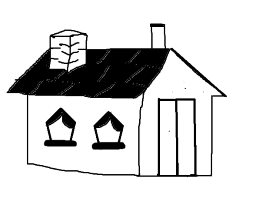chimney: (46, 22, 92, 74), (144, 18, 172, 52)
door: (152, 92, 202, 184)
open_window: (40, 106, 79, 151), (89, 107, 128, 151)
shaded_roof: (8, 42, 228, 100)
wall: (22, 90, 145, 179)
